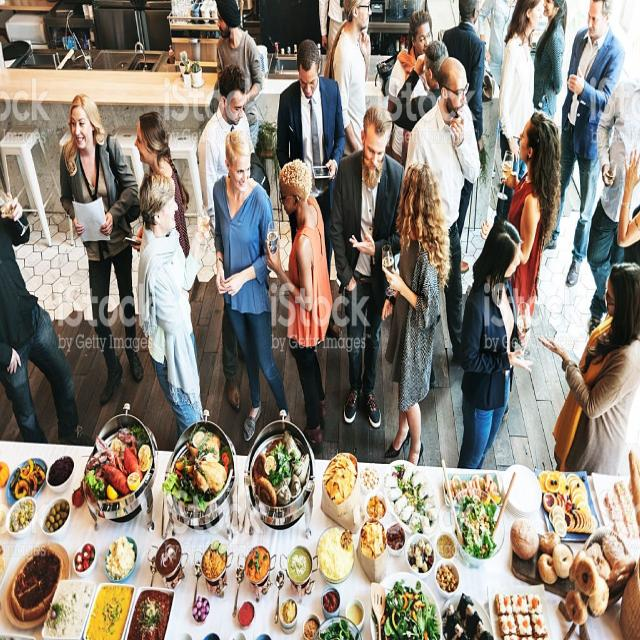body: (196, 59, 271, 415), (58, 92, 143, 404), (404, 54, 482, 388), (210, 127, 292, 444), (329, 104, 409, 427), (538, 0, 625, 291), (0, 194, 96, 449), (379, 160, 452, 471), (536, 261, 640, 477), (263, 156, 334, 452), (136, 171, 213, 441), (458, 219, 532, 470), (275, 37, 347, 286), (498, 108, 563, 347), (585, 74, 640, 336), (441, 0, 486, 274), (496, 0, 544, 222), (128, 110, 192, 261), (388, 7, 436, 170), (215, 0, 264, 152), (332, 0, 372, 159), (389, 38, 450, 134), (528, 0, 568, 120), (616, 144, 640, 250), (318, 0, 348, 59)
